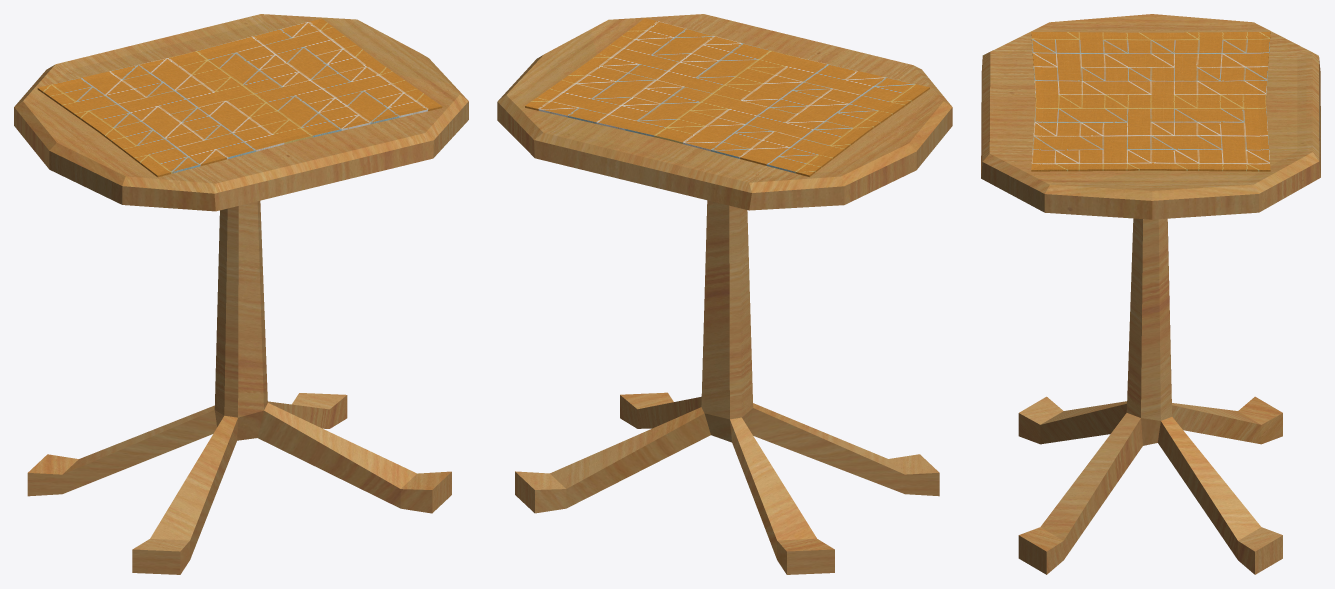
Rendered from blomsterbord.glb.
3 renders of one model, left to right at view 1: azimuth 30°, elevation 25°; view 2: azimuth 150°, elevation 25°; view 3: azimuth 270°, elevation 25°, orthographic.
Visible parts, largest first — view 1: Bord; view 2: Bord; view 3: Bord.
Boxes of the visible parts, x1,y1,x2,y2 form: Bord: [14, 14, 468, 574]; Bord: [497, 14, 952, 574]; Bord: [981, 14, 1320, 574].
Bounding box in the file's own units: 1.21 × 1.21 × 0.9395.
Materials: 2 (2 with a texture image).
